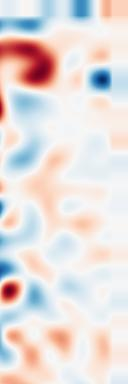filament: (0, 30, 61, 94)
